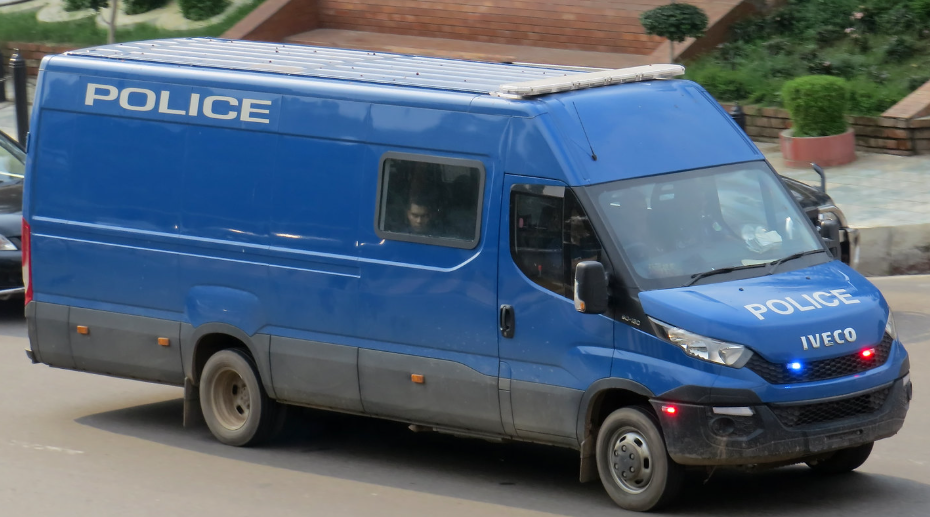Police cars: (20, 31, 910, 501)
